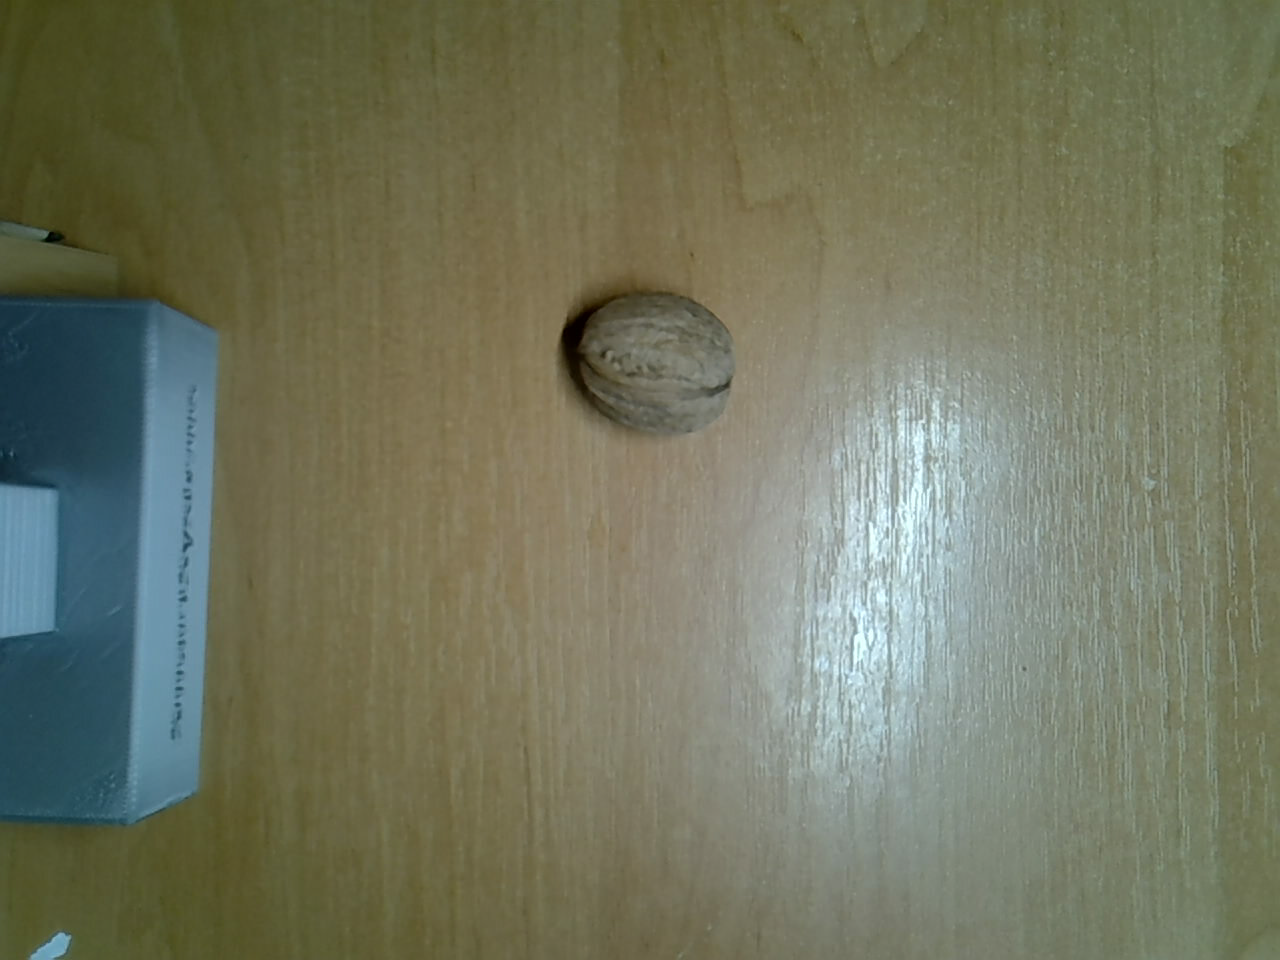nut: (579, 287, 743, 439)
